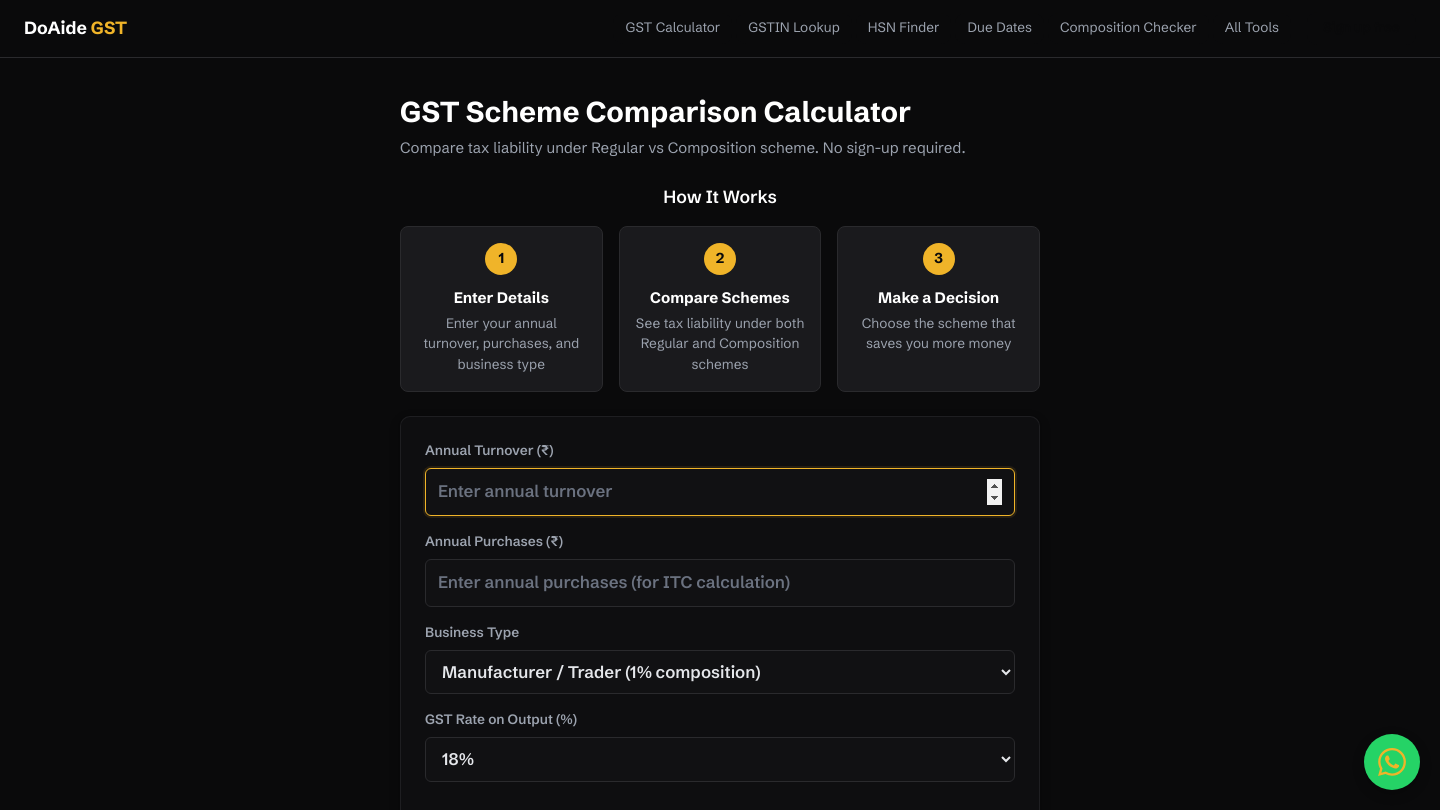
Test: SchemeComparisonPage › shows the bar chart when result is computed
In the number field with placeholder "Enter annual turnover": (720, 492) [425,468,1015,516], type "1000000"
(page scrolled)
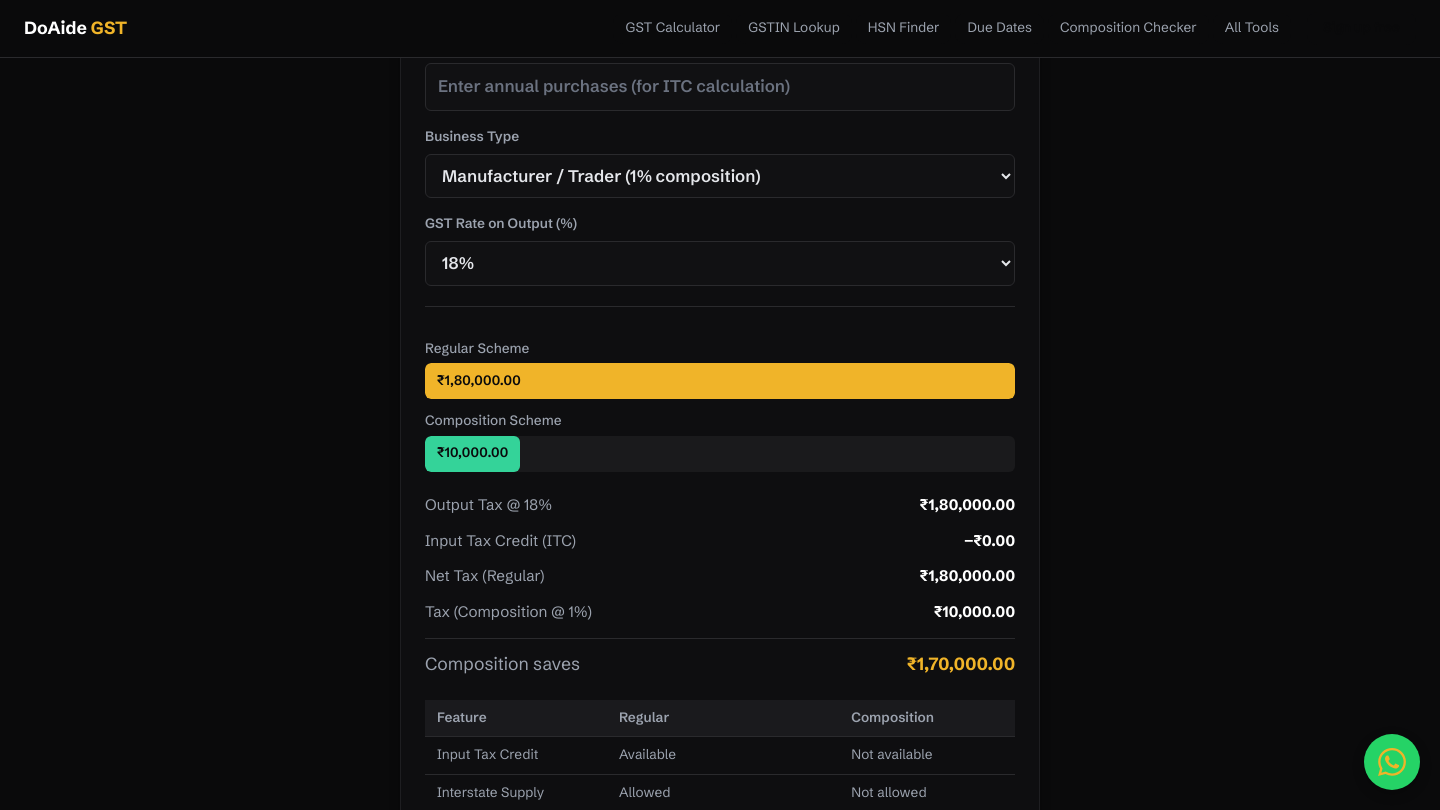
Expected: the picture named "Tax comparison chart" is shown, [425,339,1015,472]
